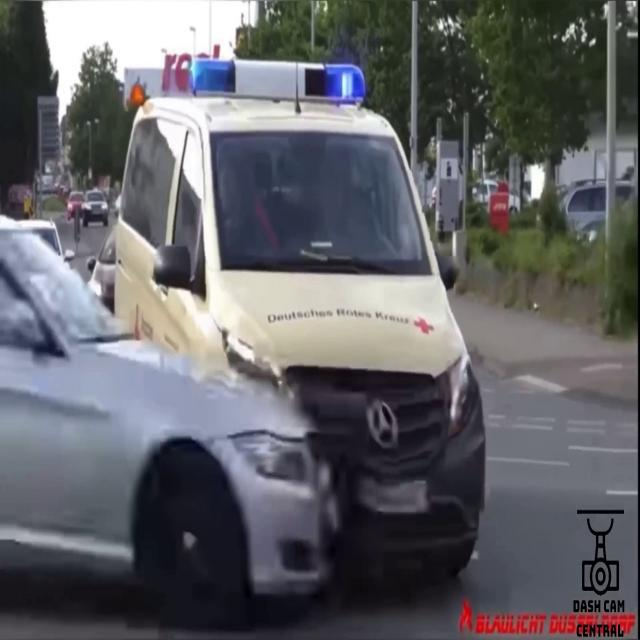accident: (0, 154, 480, 603)
